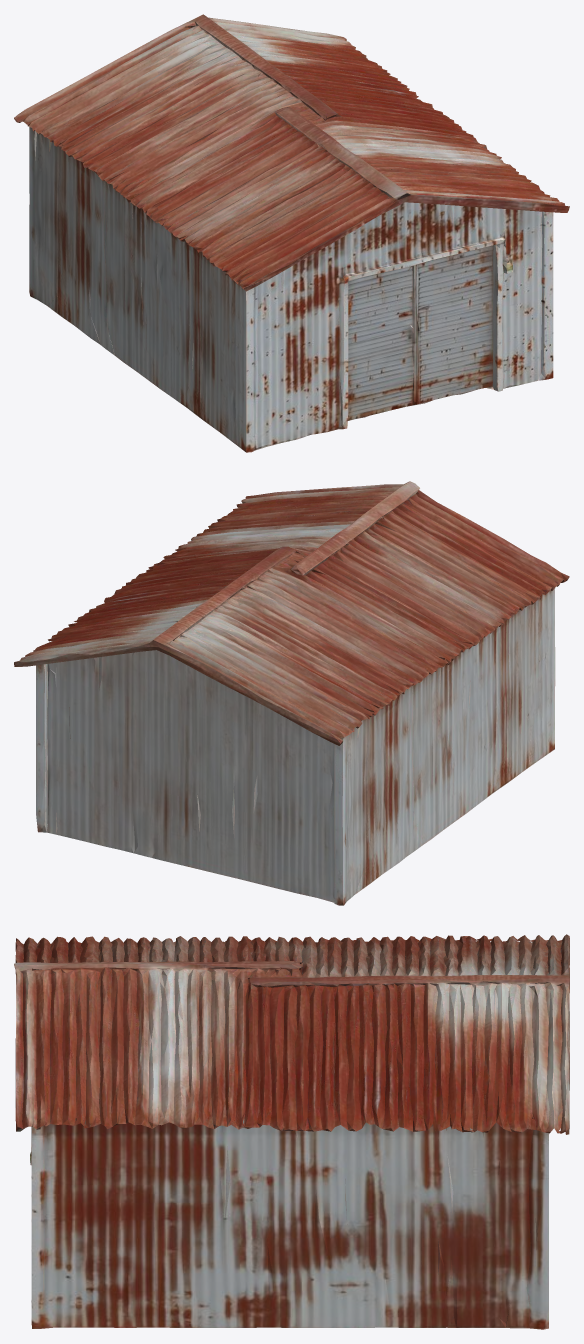
The model's file is warehouse.glb.
3 views of the same model, one above another, from view 1: azimuth 30°, elevation 25°; view 2: azimuth 150°, elevation 25°; view 3: azimuth 270°, elevation 25° (orthographic). The views are drawn at different scales.
Visible parts, largest first — view 1: Mesh; view 2: Mesh; view 3: Mesh.
Boxes of the visible parts, x1,y1,x2,y2 form: Mesh: (14,14,569,452); Mesh: (14,481,569,905); Mesh: (14,934,569,1329).
Size of the model in its own units: 10.54 by 7 by 12.72.
1 material, 1 textured.
